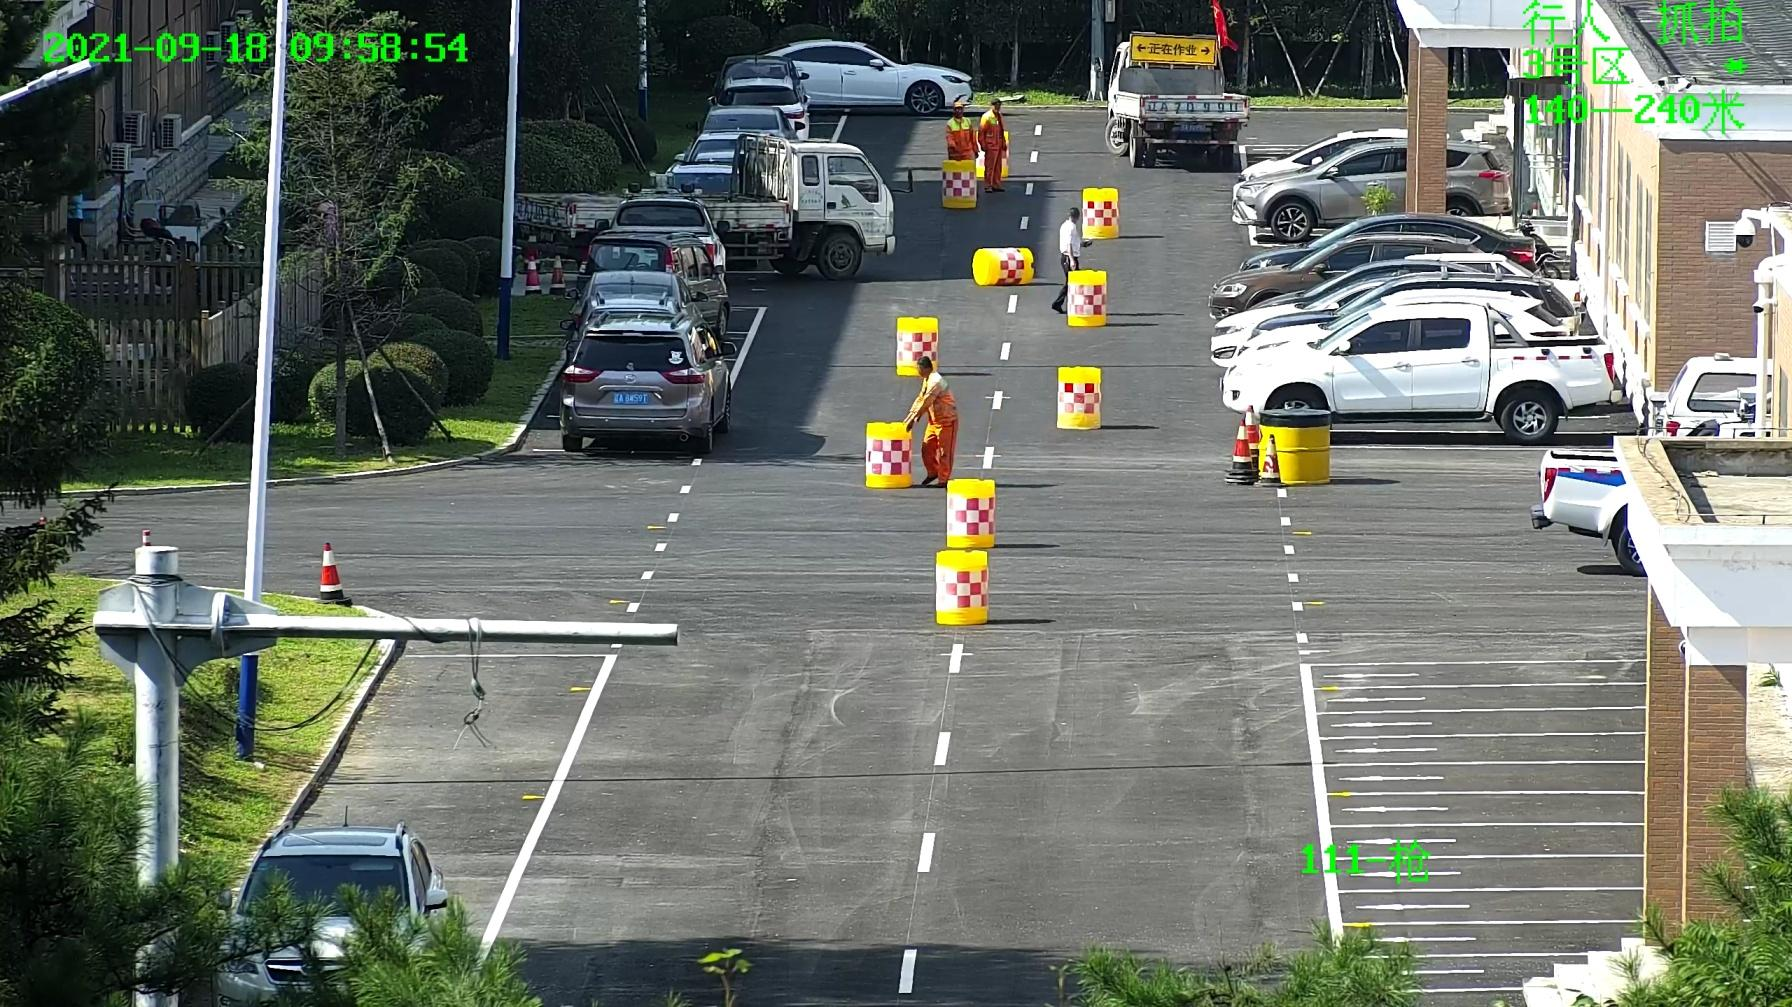cone_barrel: (1106, 33, 1242, 161), (934, 547, 990, 625), (945, 476, 994, 547), (863, 419, 912, 489), (1054, 364, 1100, 428), (894, 316, 938, 375), (971, 247, 1033, 284), (1062, 272, 1102, 326), (940, 159, 980, 211), (1081, 188, 1119, 236), (972, 130, 1009, 175)
